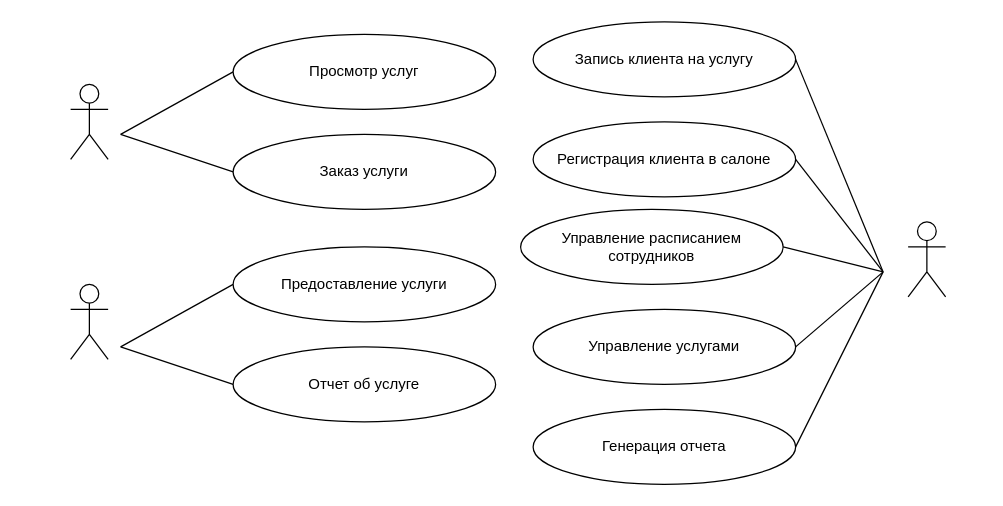
Image size: 1003x506. Some labels were removed from this diagram. The centre of each missing label's shape, as x and y in pixels:
Администратор: [926,259]
Клиент: [88,121]
Мастер (сотрудник): [88,321]
